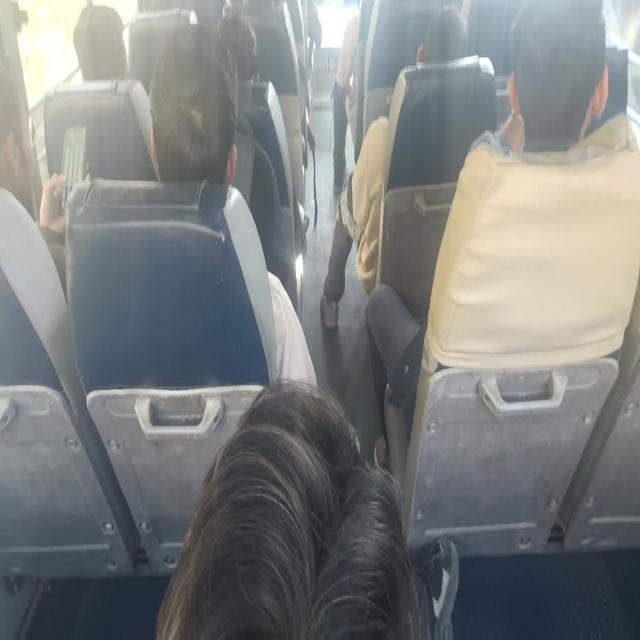person: (40, 22, 318, 387), (424, 1, 639, 372), (155, 377, 424, 638), (320, 5, 468, 331), (38, 24, 240, 233), (466, 0, 610, 160), (320, 114, 388, 331), (148, 24, 238, 186), (0, 68, 68, 235), (330, 12, 360, 195), (72, 4, 130, 82)
